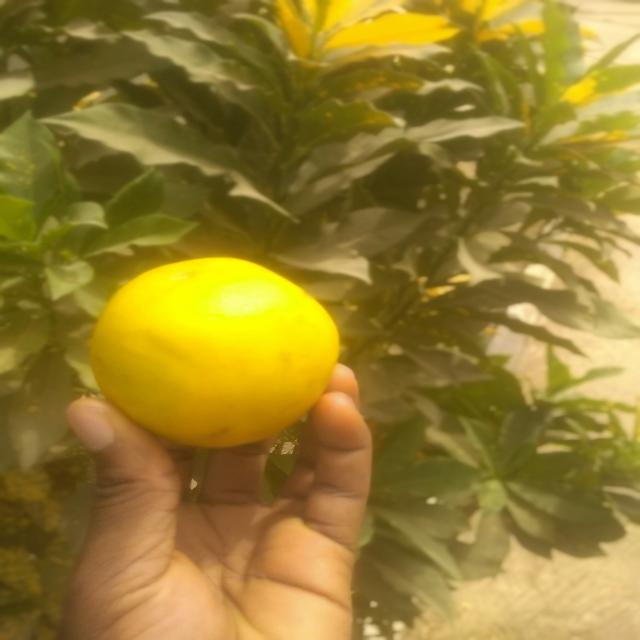Ripe orange: (89, 247, 350, 445)
